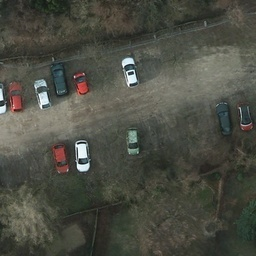car: (122, 56, 141, 89), (50, 65, 69, 98), (237, 99, 255, 133), (124, 125, 143, 157), (33, 80, 52, 111), (8, 82, 27, 113), (75, 140, 91, 174), (55, 140, 70, 175), (217, 101, 232, 134), (73, 72, 90, 95)
